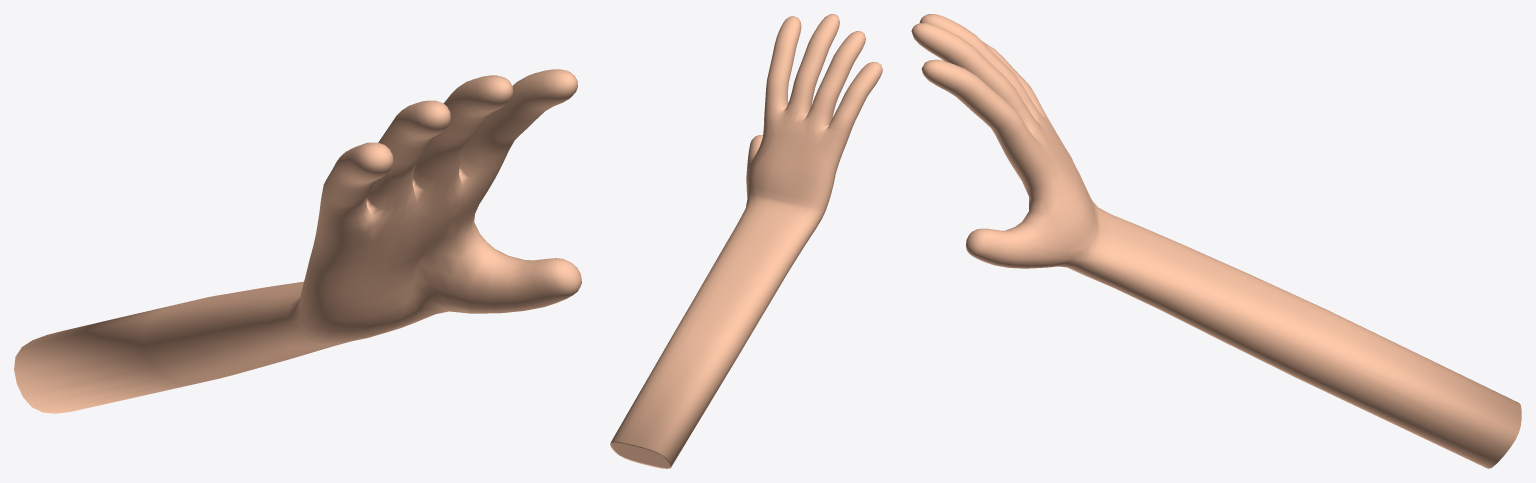
File: hand from door.fbx
The picture shows the model from 3 angles, left to right: view 1: azimuth 30°, elevation 25°; view 2: azimuth 150°, elevation 25°; view 3: azimuth 270°, elevation 25°; orthographic projection. The views are drawn at different scales.
Visible parts, largest first — view 1: Cube; view 2: Cube; view 3: Cube.
Part boxes in pixels (x1,y1,x2,y2): Cube: (14,69,581,413); Cube: (610,14,882,468); Cube: (911,14,1521,468).
Bounding box in the file's own units: 293 × 710 × 893.
